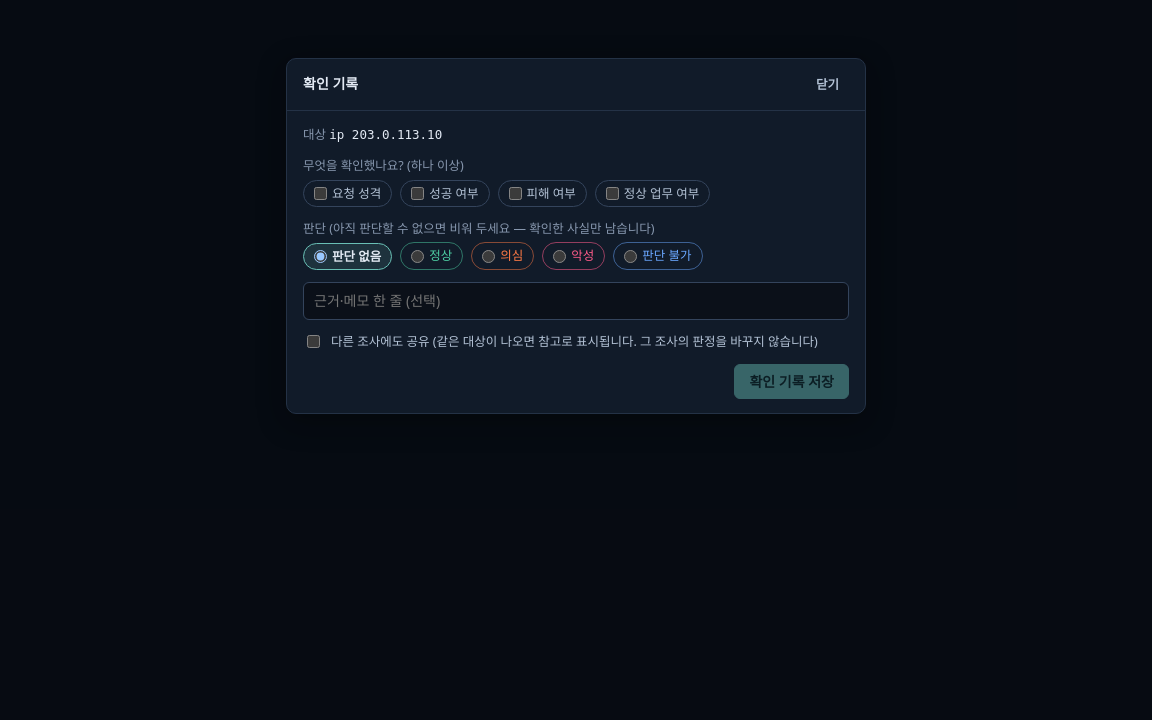
Confirmation record dialog › asks for the fact and the range when sharing, never just 'normal'
Click the checkbox labelled "정상 업무 여부" at (612, 193), box [606,187,619,200]
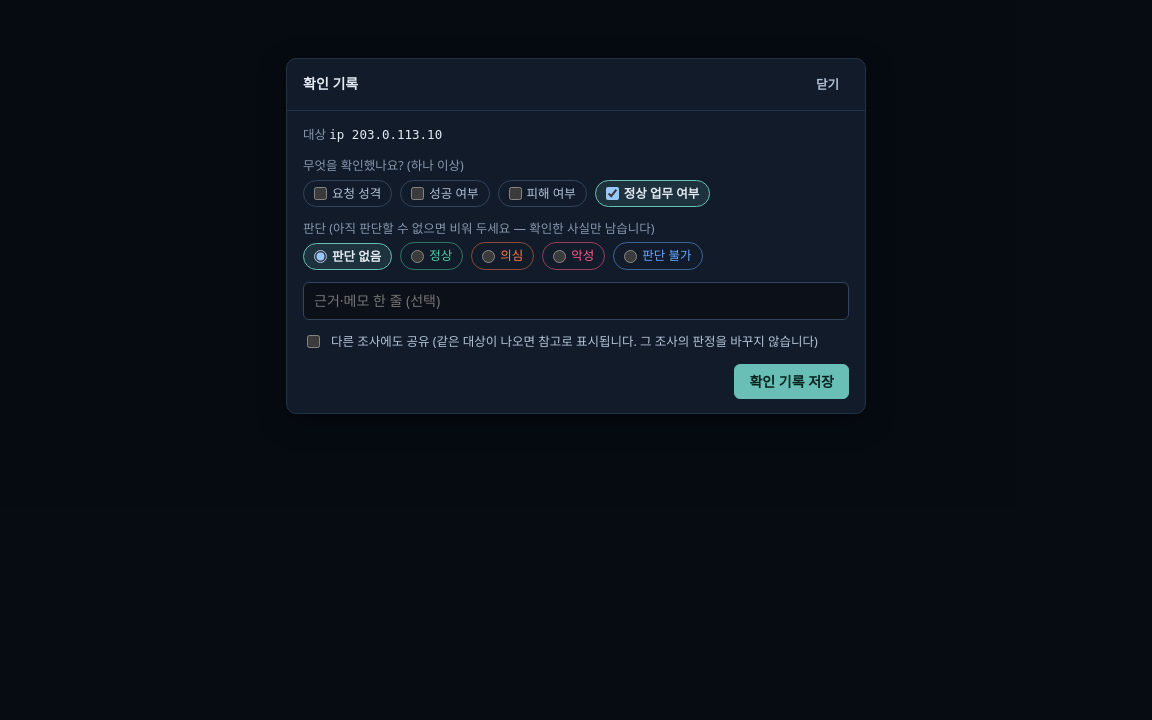
Click the checkbox labelled "다른 조사에도 공유 (같은 대상이 나오면 참고로 표시됩니다. 그 조사의 판정을 바꾸지 않습니다)" at (314, 342), box [307,335,320,348]
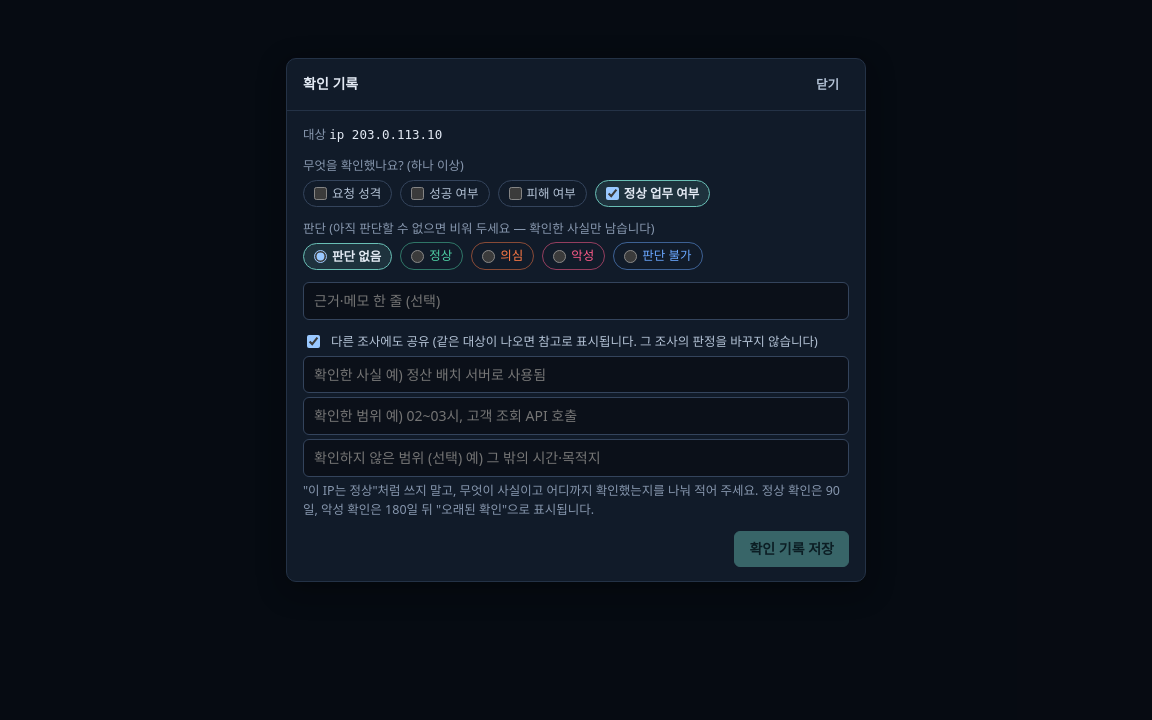
expect the button "확인 기록 저장" is disabled: met, box [734,531,849,567]
Type "정산 배치 서버" into the field labelled "확인한 사실" at (576, 374), box [303,356,849,393]
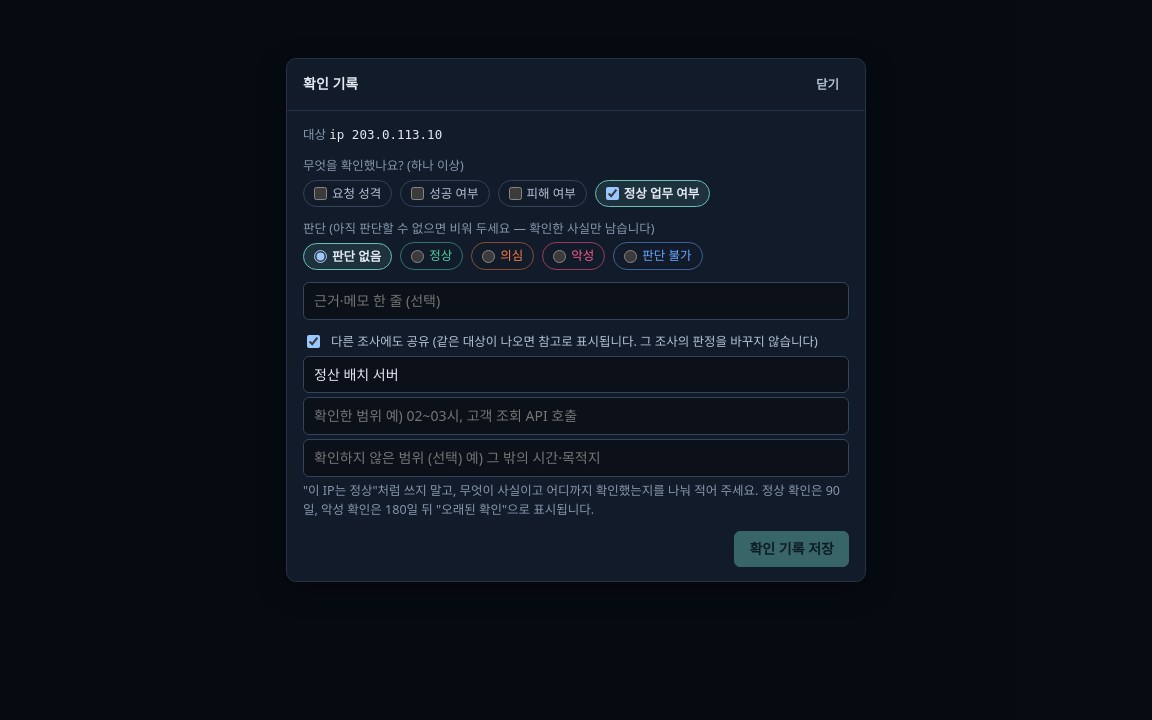
Type "02~03시 호출" into the field labelled "확인한 범위" at (576, 416), box [303,397,849,435]
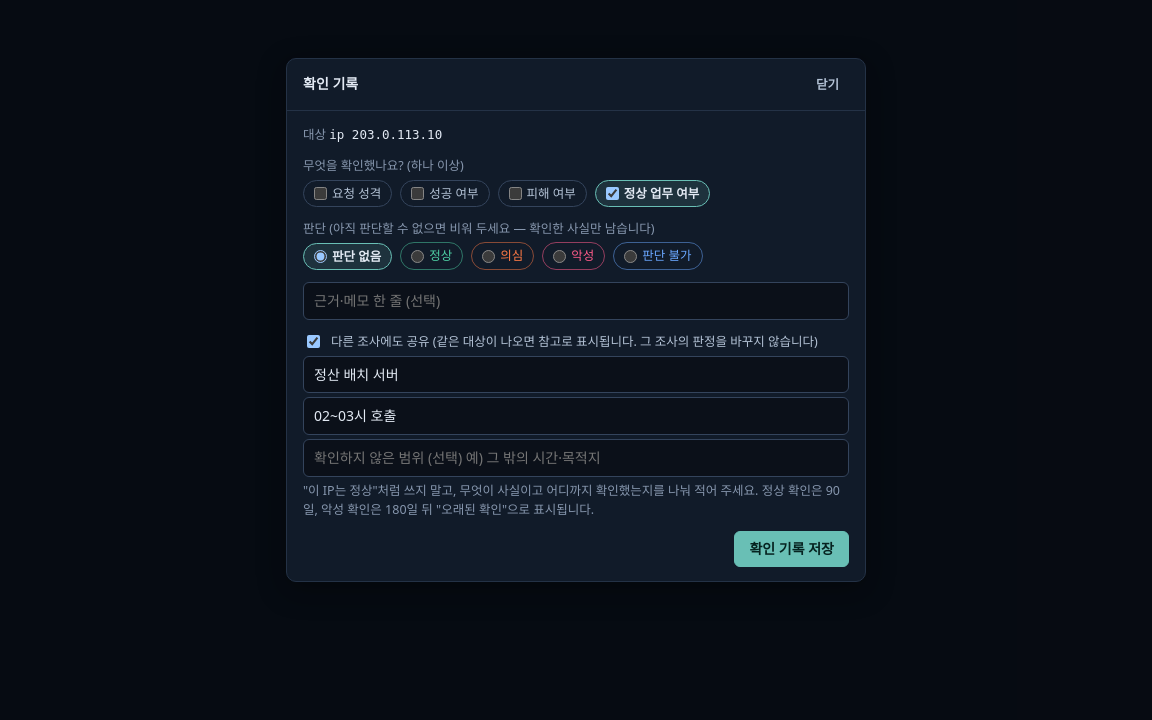
expect the button "확인 기록 저장" is enabled: met, box [734,531,849,567]
